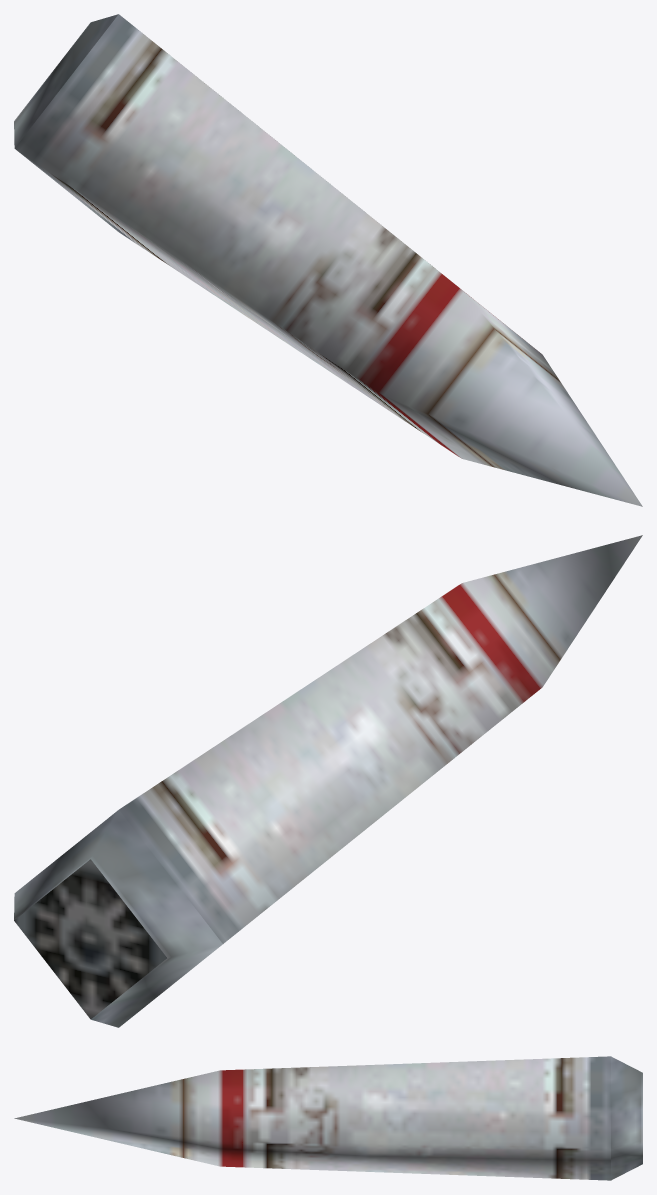
File: wp_ammo_rocket_l1.fbx
The picture shows the model from 3 angles, top to bottom: view 1: azimuth 30°, elevation 25°; view 2: azimuth 150°, elevation 25°; view 3: azimuth 270°, elevation 25°; orthographic projection. The views are drawn at different scales.
Visible parts, largest first — view 1: mesh_node; view 2: mesh_node; view 3: mesh_node.
Boxes of the visible parts, left/top/right/bottom form: mesh_node: left=14, top=14, right=642, bottom=506; mesh_node: left=14, top=535, right=642, bottom=1027; mesh_node: left=14, top=1056, right=642, bottom=1180.
Size of the model in its own units: 0.0365 by 0.0365 by 0.1677.
